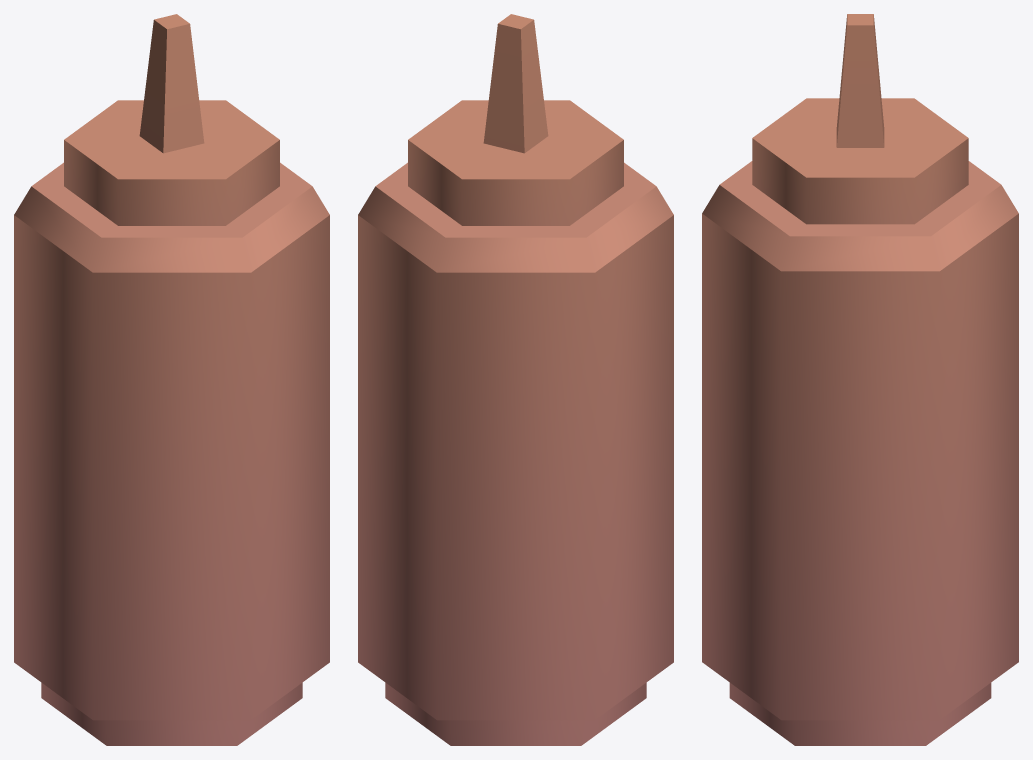
File: bottle-ketchup.glb
The picture shows the model from 3 angles, left to right: view 1: azimuth 30°, elevation 25°; view 2: azimuth 150°, elevation 25°; view 3: azimuth 270°, elevation 25°; orthographic projection.
Parts seen in each view (by area): view 1: bottle-ketchup; view 2: bottle-ketchup; view 3: bottle-ketchup.
Part boxes in pixels (box(x1,y1,x2,y2)): bottle-ketchup: box(14, 14, 329, 745); bottle-ketchup: box(358, 14, 673, 745); bottle-ketchup: box(702, 14, 1018, 745).
Bounding box in the file's own units: 0.1441 × 0.3931 × 0.1664.
